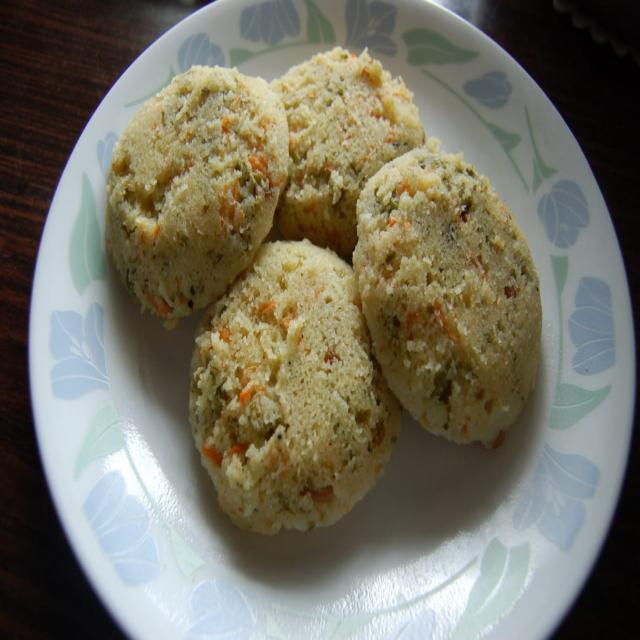rave idli: (174, 237, 398, 558), (354, 147, 548, 448), (101, 56, 290, 324), (279, 32, 431, 267)
